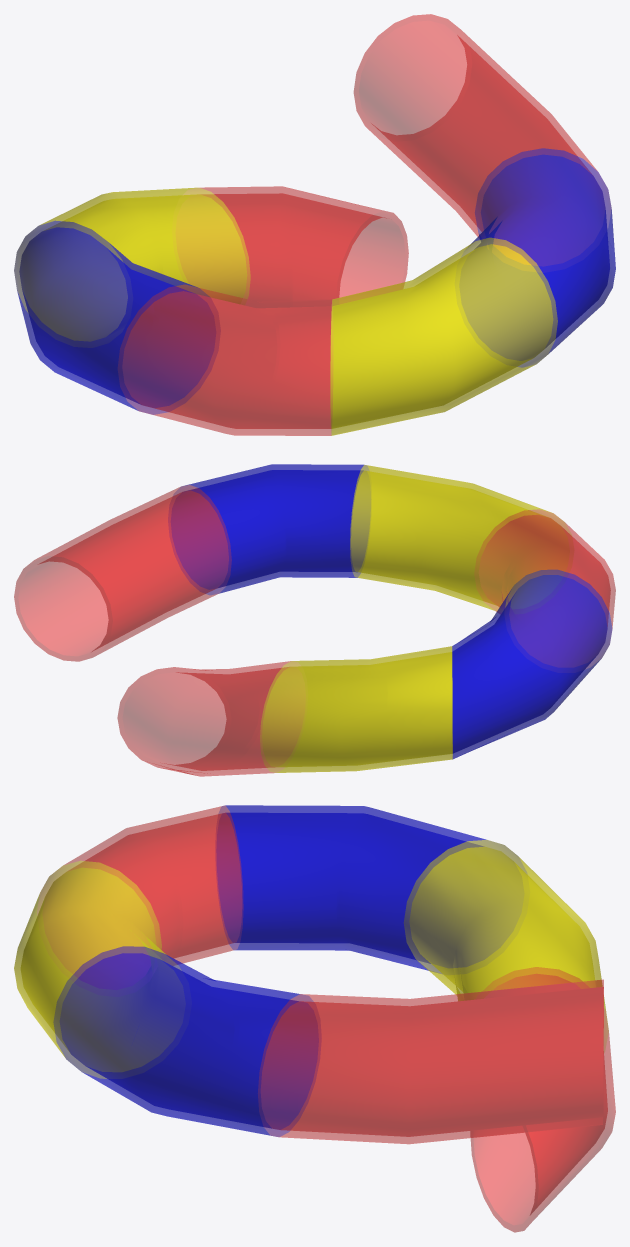
Rendered from Tubería.fbx.
3 views of the same model, one above another, from view 1: azimuth 30°, elevation 25°; view 2: azimuth 150°, elevation 25°; view 3: azimuth 270°, elevation 25° (orthographic). The views are drawn at different scales.
Parts seen in each view (by area): view 1: pPipe2; view 2: pPipe2; view 3: pPipe2.
Part boxes in pixels (x1,y1,x2,y2): pPipe2: [14, 14, 615, 435]; pPipe2: [14, 464, 615, 776]; pPipe2: [14, 805, 615, 1232].
Size of the model in its own units: 9.27 by 4.32 by 8.22.
